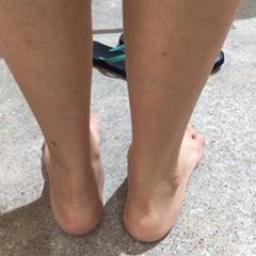Back View -Both Feet-: (20, 93, 214, 246)
